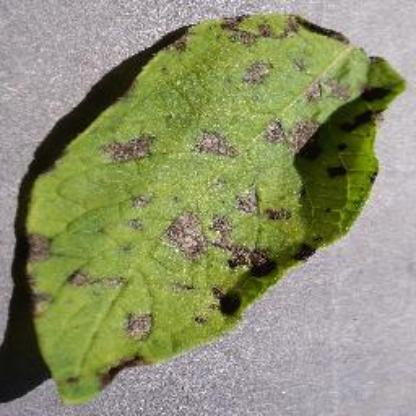Early-Blight: (18, 9, 406, 405)
